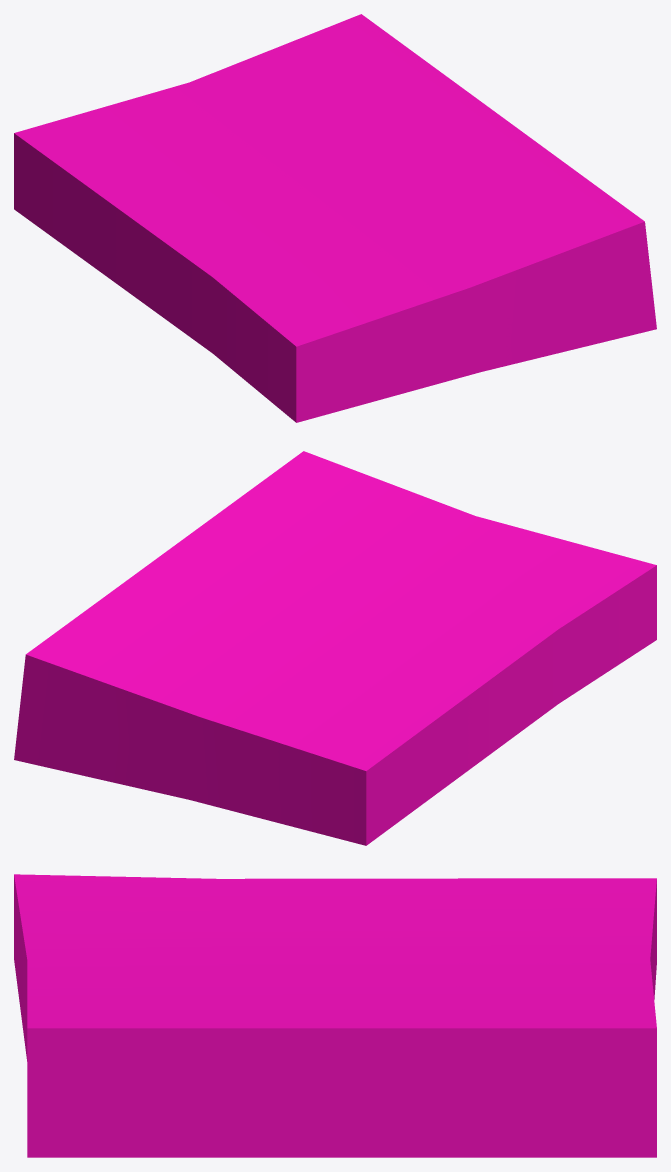
File: study_paperpile_2_meshCollider.fbx
3 views of the same model, one above another, from view 1: azimuth 30°, elevation 25°; view 2: azimuth 150°, elevation 25°; view 3: azimuth 270°, elevation 25° (orthographic). The views are drawn at different scales.
Parts seen in each view (by area): view 1: study_paperpile_2_meshCollider; view 2: study_paperpile_2_meshCollider; view 3: study_paperpile_2_meshCollider.
Boxes of the visible parts, bbox=[...] form: study_paperpile_2_meshCollider: bbox=[14, 14, 656, 422]; study_paperpile_2_meshCollider: bbox=[14, 451, 656, 845]; study_paperpile_2_meshCollider: bbox=[14, 874, 656, 1157].
Bounding box in the file's own units: 18.61 × 5.37 × 25.46.
